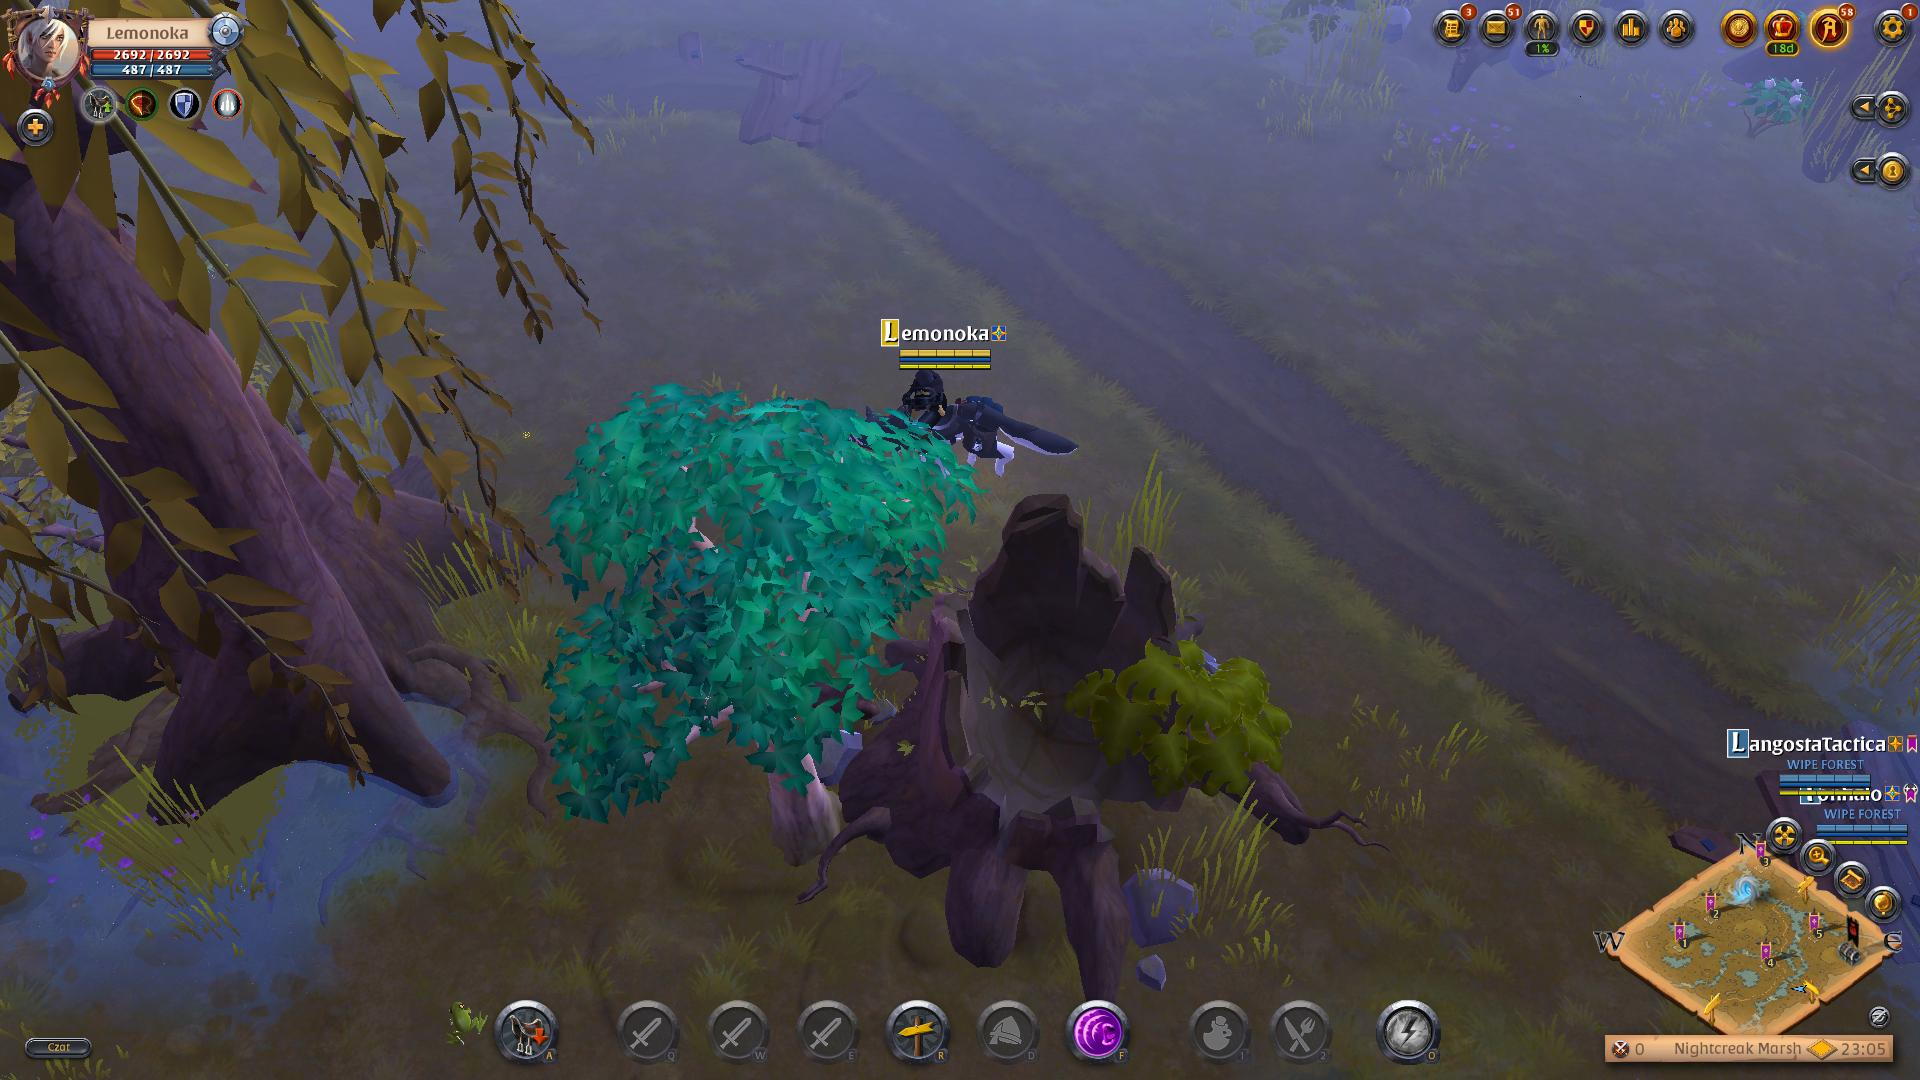wood tier 3: (547, 363, 976, 822)
